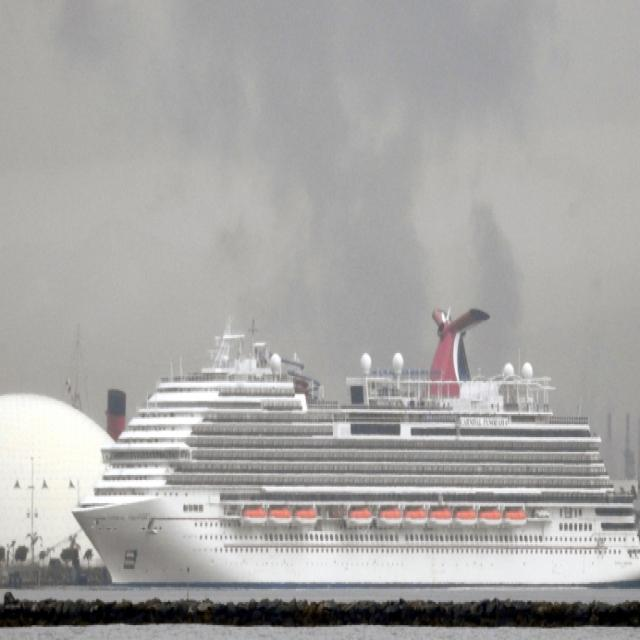cruises: (65, 300, 640, 600)
